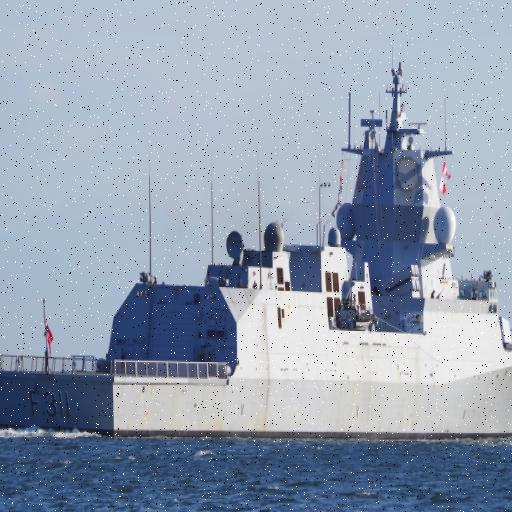Fragata: (1, 54, 512, 443)
